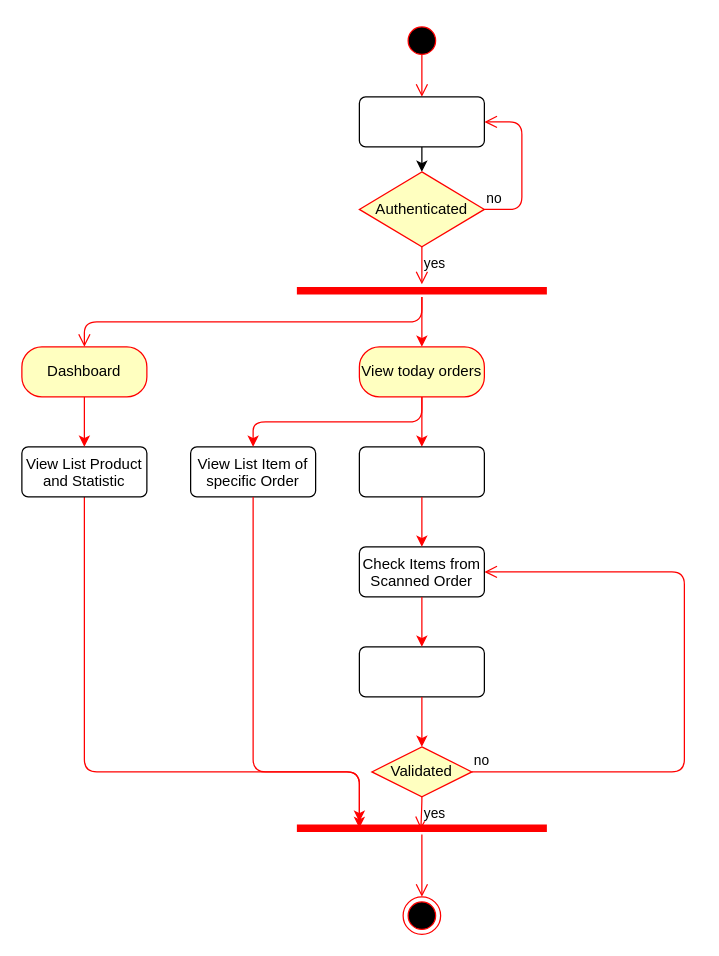
Image size: 719x956. Some labels were removed from this diagram. The shapes that lost their labels are listed below. From the top down, each one's box as (x1, y1, x2, y2) in pixels, then its label:
(358, 96, 484, 147): Login
(358, 446, 484, 497): Scan QR
(358, 646, 484, 697): Submit
